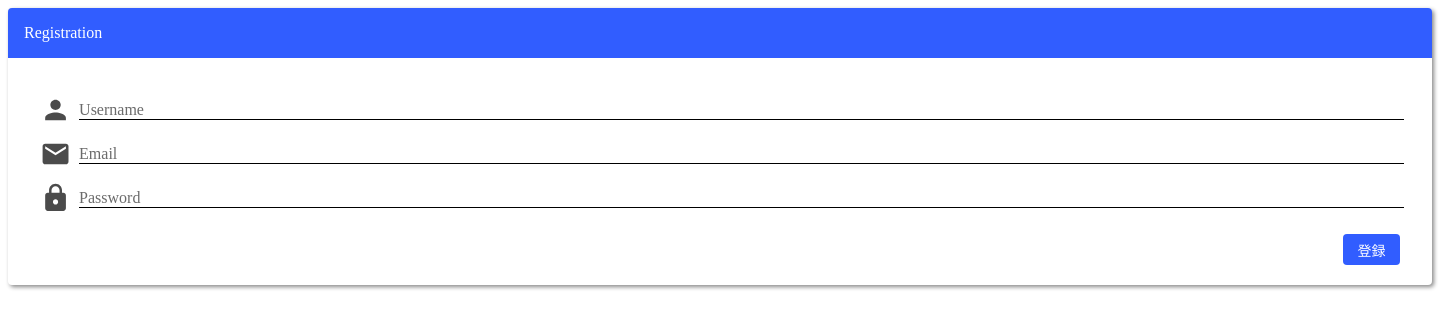
Test: RegisterForm › 登録失敗
Type "test" into the field labelled "Username" at (742,110), box [79, 100, 1404, 120]
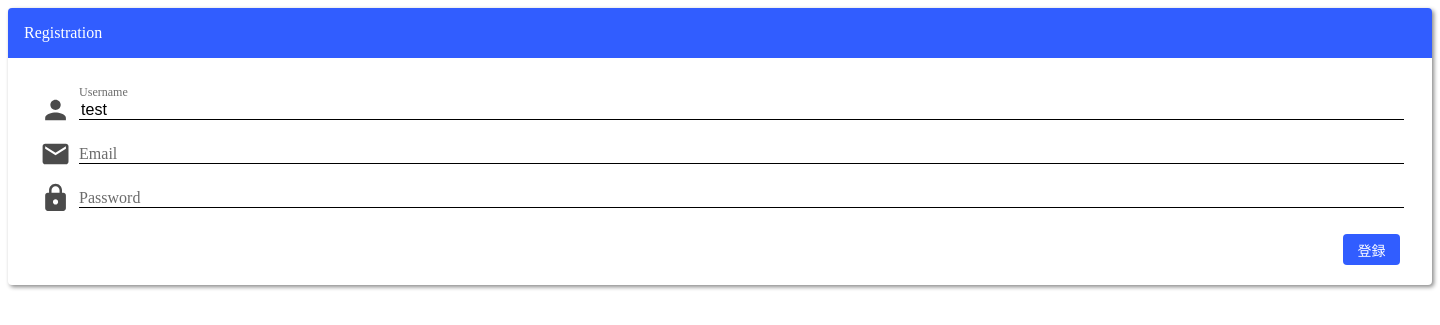
Type "test@example.com" into the field labelled "Email" at (742,154), box [79, 144, 1404, 164]
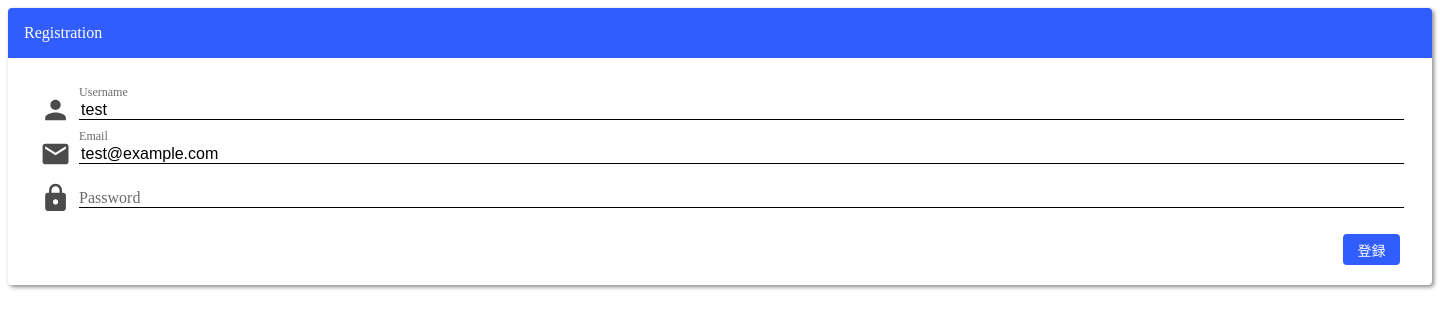
Type "password" into the password field labelled "Password" at (742,198), box [79, 188, 1404, 208]
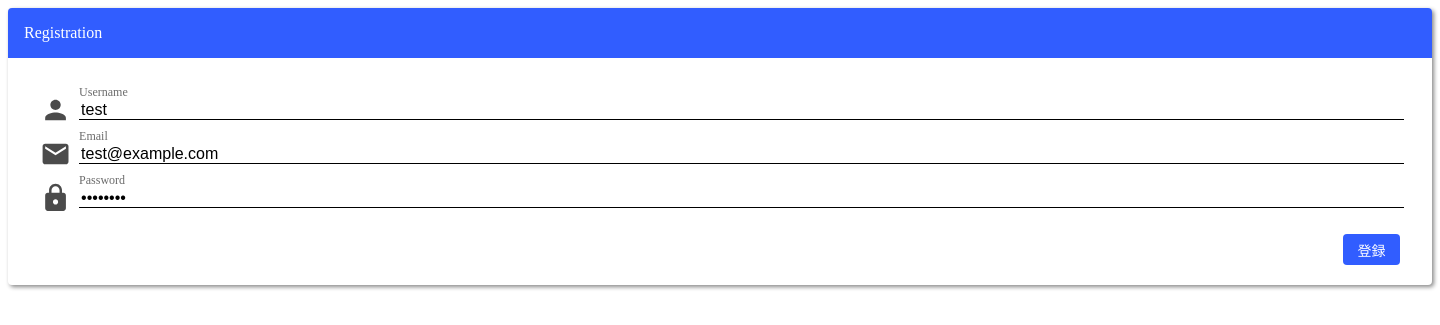
Click the button "登録" at (1372,250), box [1343, 234, 1400, 265]
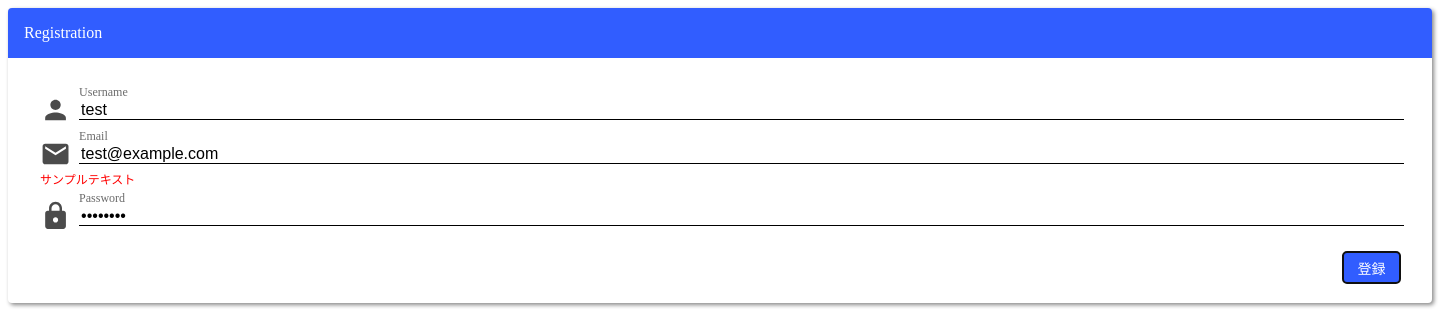
Expected: the text "サンプルテキスト" is shown, [40, 173, 135, 187]
